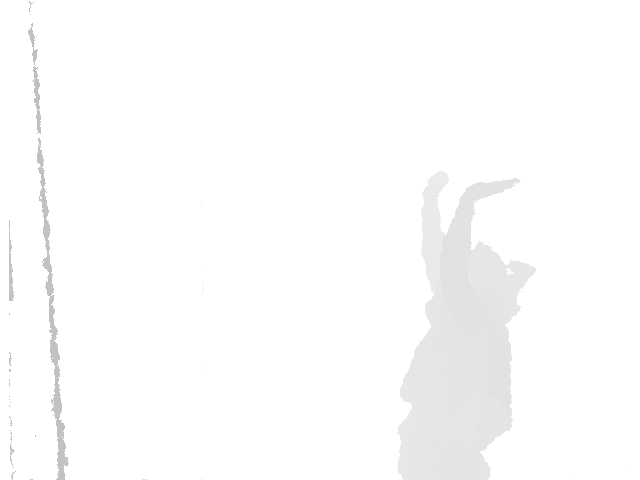hand: (458, 176, 521, 200), (421, 169, 450, 202)
head: (446, 237, 535, 325)
person: (398, 168, 533, 480)
